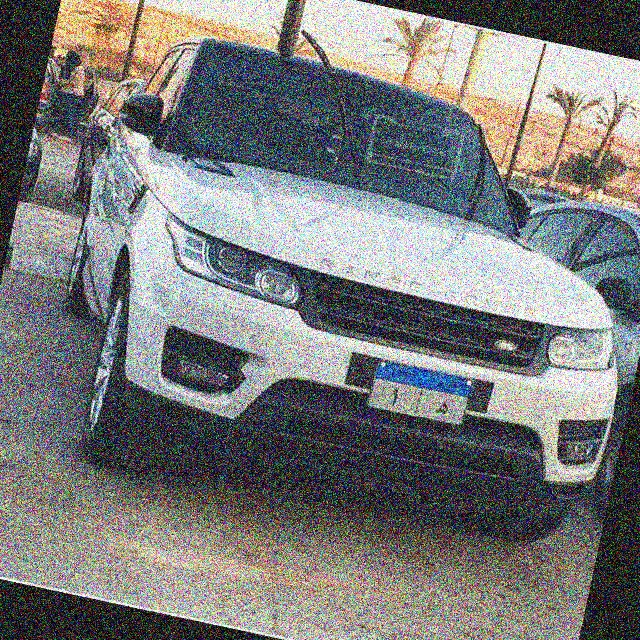License Plate: (363, 355, 476, 430)
